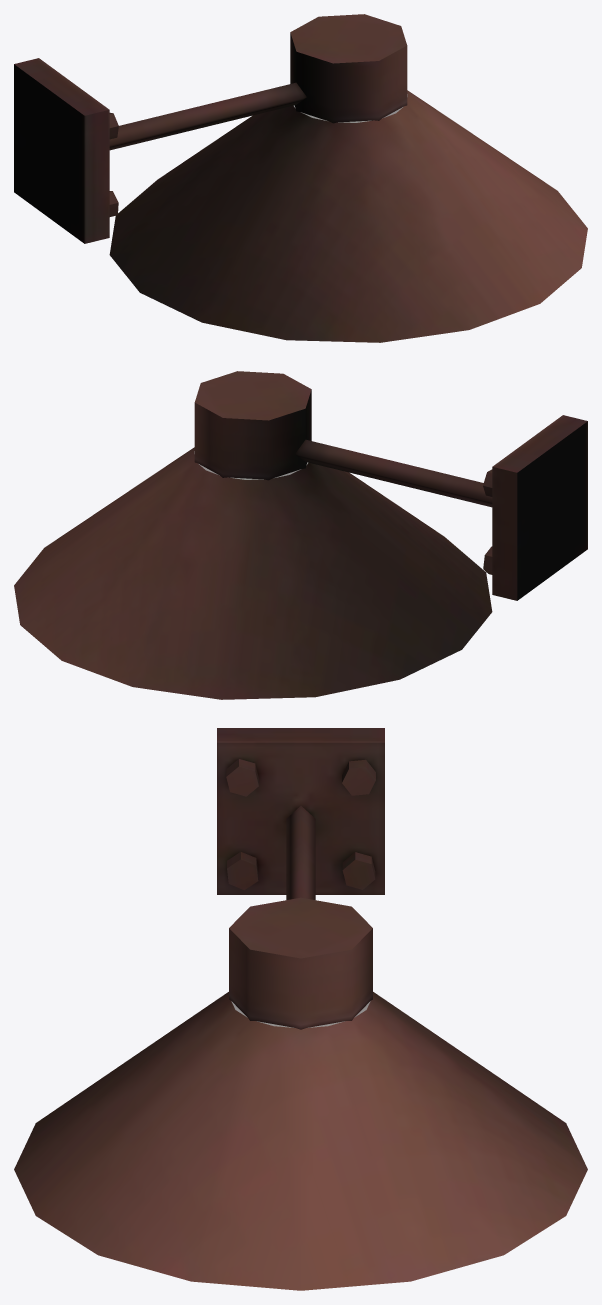
3 views of the same model, one above another, from view 1: azimuth 30°, elevation 25°; view 2: azimuth 150°, elevation 25°; view 3: azimuth 270°, elevation 25° (orthographic). The views are drawn at different scales.
Visible parts, largest first — view 1: body0_model0_lod0_mesh0; view 2: body0_model0_lod0_mesh0; view 3: body0_model0_lod0_mesh0.
Part boxes in pixels (box(x1,y1,x2,y2)): body0_model0_lod0_mesh0: box(14, 14, 587, 342); body0_model0_lod0_mesh0: box(14, 371, 587, 699); body0_model0_lod0_mesh0: box(14, 728, 587, 1290).
Bounding box in the file's own units: 52.5 × 22.19 × 43.15.
1 material, 1 textured.
